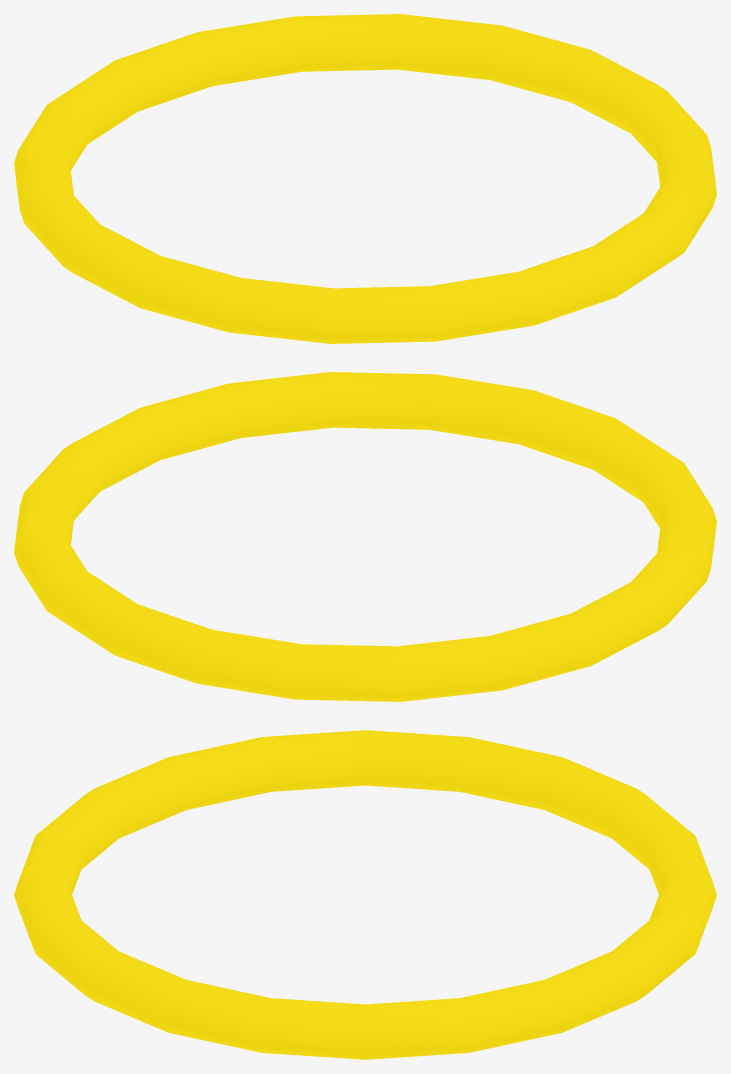
File: halo.glb
3 views of the same model, one above another, from view 1: azimuth 30°, elevation 25°; view 2: azimuth 150°, elevation 25°; view 3: azimuth 270°, elevation 25° (orthographic).
Parts seen in each view (by area): view 1: Torus.001; view 2: Torus.001; view 3: Torus.001.
Part boxes in pixels (left/top/right/bottom): Torus.001: left=14, top=14, right=716, bottom=343; Torus.001: left=14, top=372, right=716, bottom=701; Torus.001: left=14, top=730, right=716, bottom=1059.
Size of the model in its own units: 0.9221 by 0.0733 by 0.9221.
